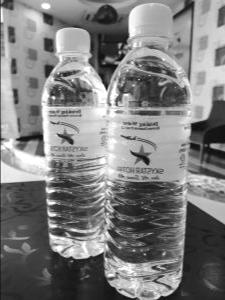bottle: (97, 0, 194, 300), (40, 22, 116, 266)
